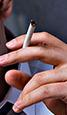smoke: (23, 19, 36, 48)
